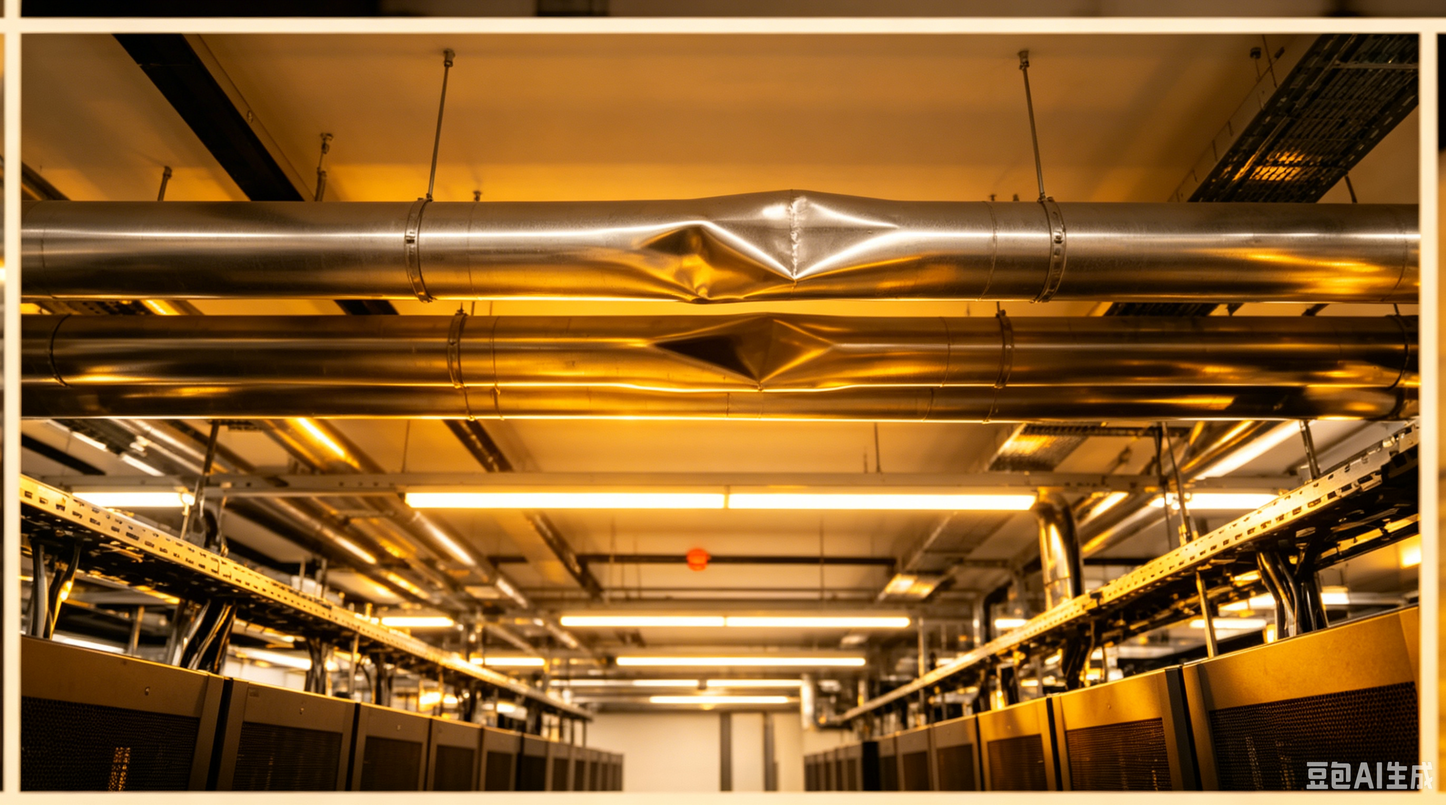Leakage: (724, 194, 947, 277), (640, 319, 852, 391), (634, 213, 758, 305)
